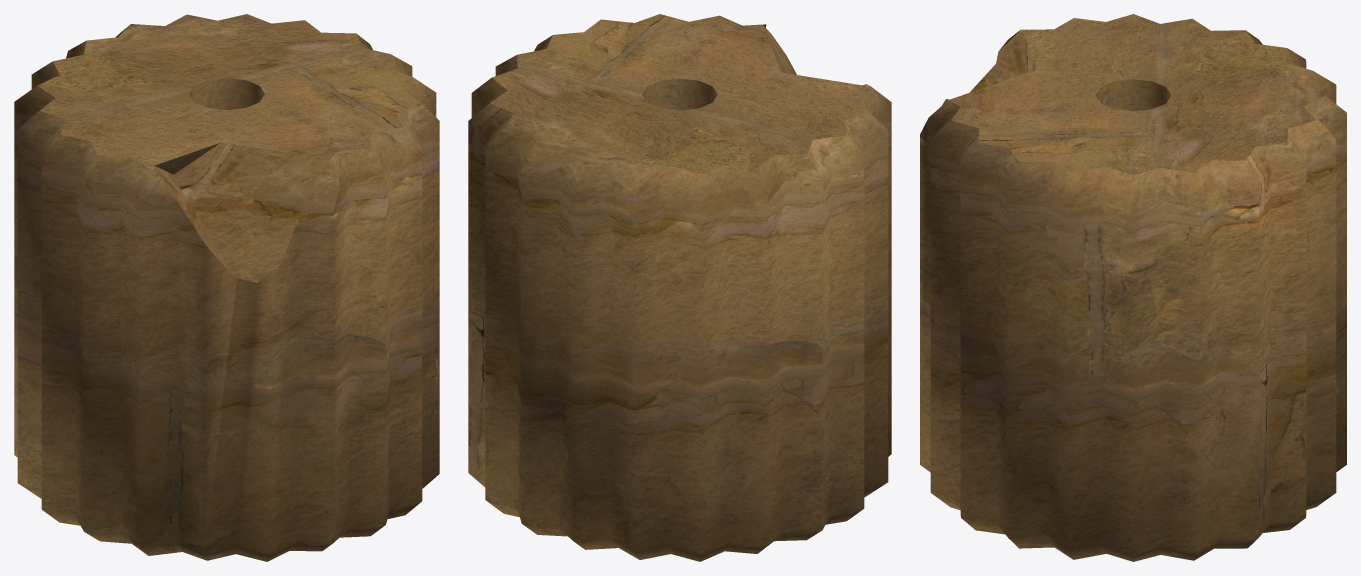
Rendered from column_drum.glb.
3 views of the same model, side by side, from view 1: azimuth 30°, elevation 25°; view 2: azimuth 150°, elevation 25°; view 3: azimuth 270°, elevation 25° (orthographic).
Parts seen in each view (by area): view 1: column_drum; view 2: column_drum; view 3: column_drum.
Part boxes in pixels (x1=…): column_drum: x1=14, y1=14, x2=439, y2=561; column_drum: x1=468, y1=14, x2=891, y2=561; column_drum: x1=920, y1=14, x2=1346, y2=561.
Bounding box in the file's own units: 0.9 × 0.9 × 0.9.
Materials: 1 (1 with a texture image).
